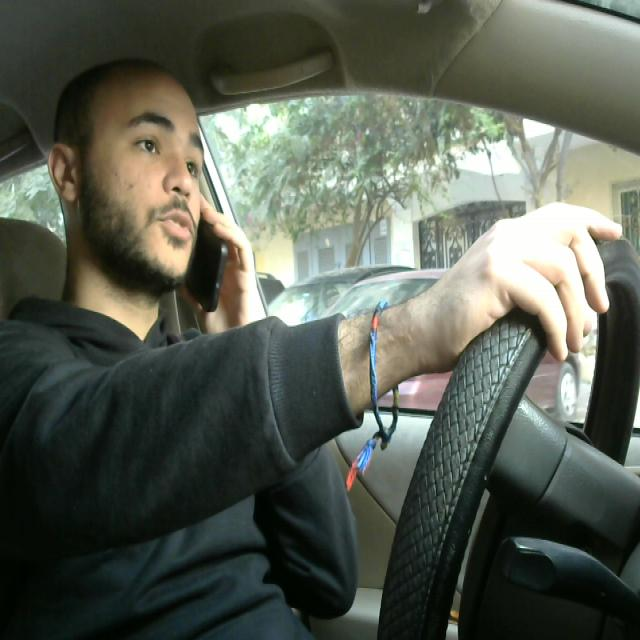mobile use: (165, 210, 228, 311)
